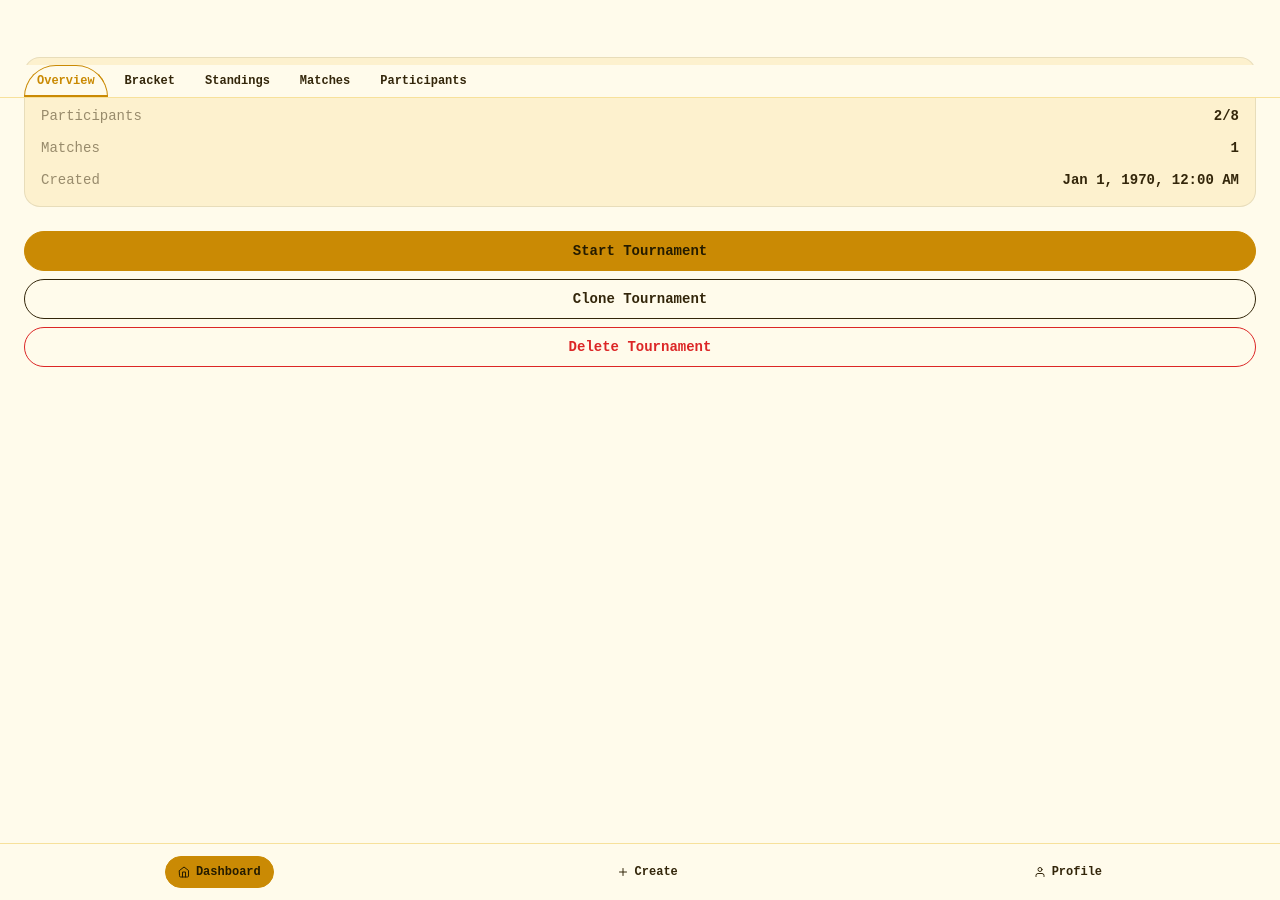
it: TournamentDetailPage › labels a single-round bracket as Round 1
The width and height of the screenshot is (1280, 900).
Click the button "Bracket": (150, 81) x1=112 y1=65 x2=188 y2=97
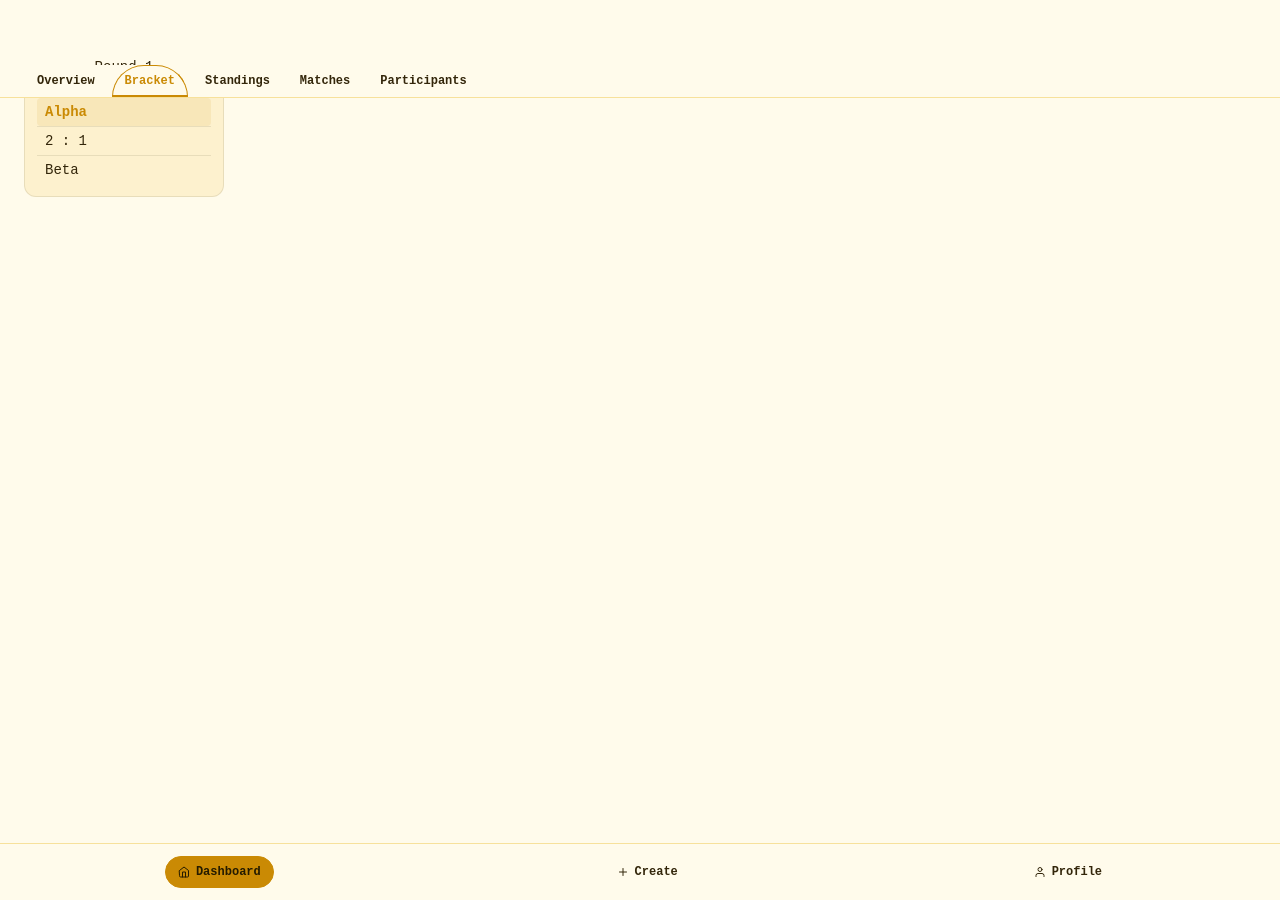
Check: the heading "Round 1" is shown, box x1=95 y1=59 x2=153 y2=75
